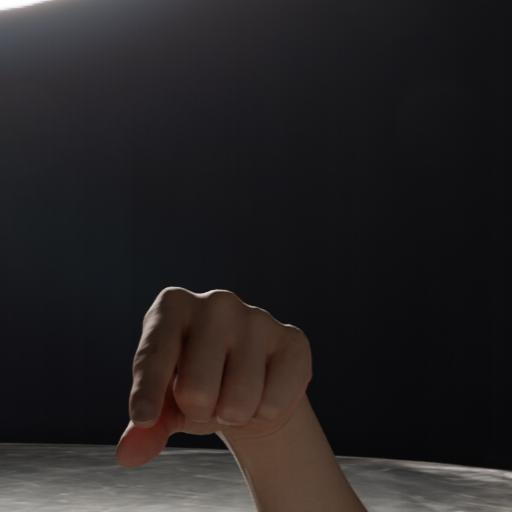Q: (99, 272, 390, 512)
